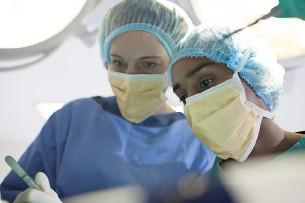OK: (175, 68, 263, 156), (105, 49, 177, 121)
